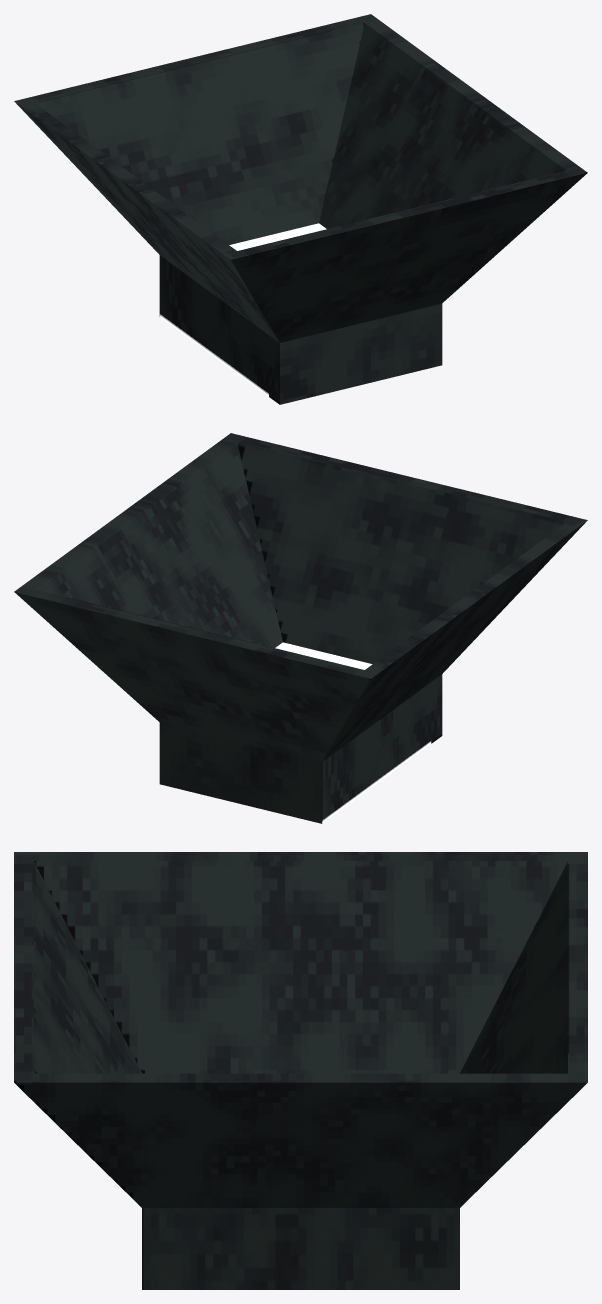
Rendered from floodLight.fbx.
3 renders of one model, top to bottom at view 1: azimuth 30°, elevation 25°; view 2: azimuth 150°, elevation 25°; view 3: azimuth 270°, elevation 25°, orthographic. The views are drawn at different scales.
Visible parts, largest first — view 1: Flood light; view 2: Flood light; view 3: Flood light.
Part boxes in pixels (left/top/right/bottom): Flood light: left=14, top=14, right=587, bottom=404; Flood light: left=14, top=433, right=587, bottom=823; Flood light: left=14, top=852, right=587, bottom=1289.
Size of the model in its own units: 0.9262 by 0.8802 by 0.4809.
